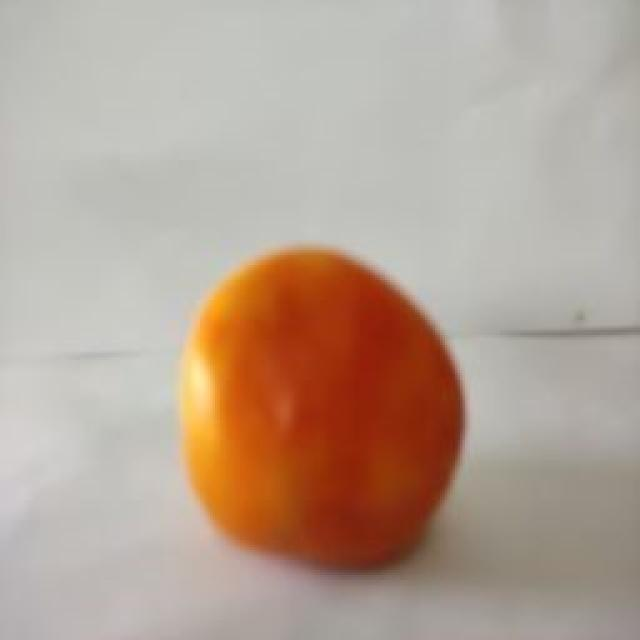unripe: (188, 100, 408, 468)
